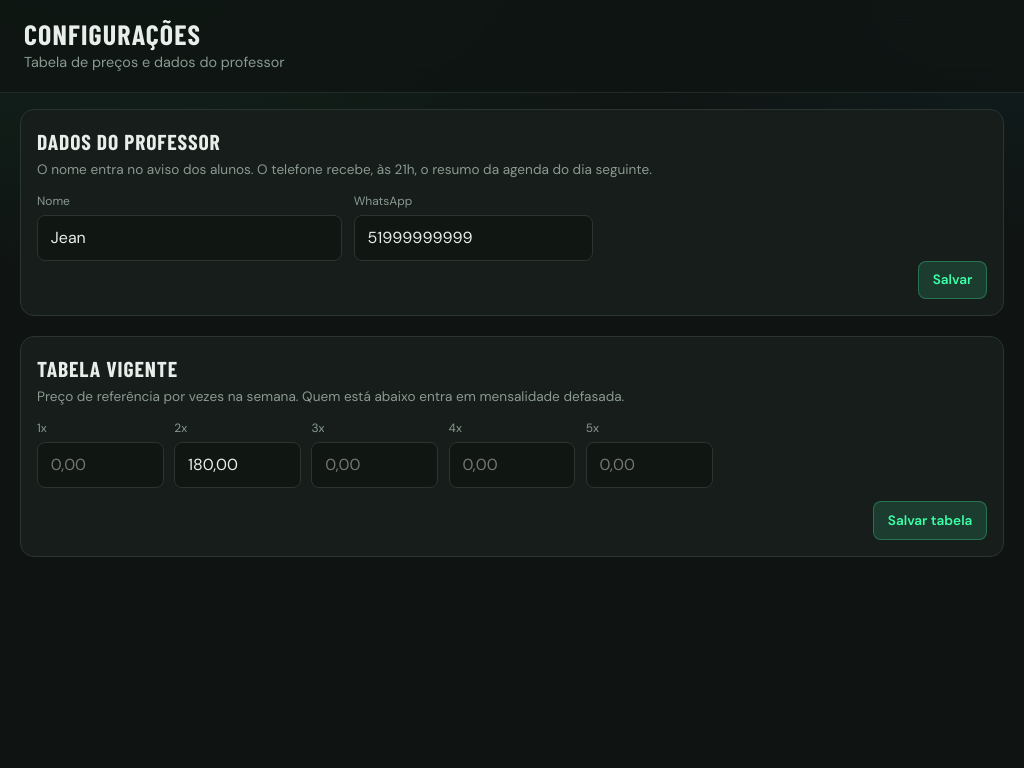
edita e salva a tabela vigente
Replace the text in the field named "Preço 2x na semana" with "200,00" at (238, 465), box [174, 442, 301, 488]
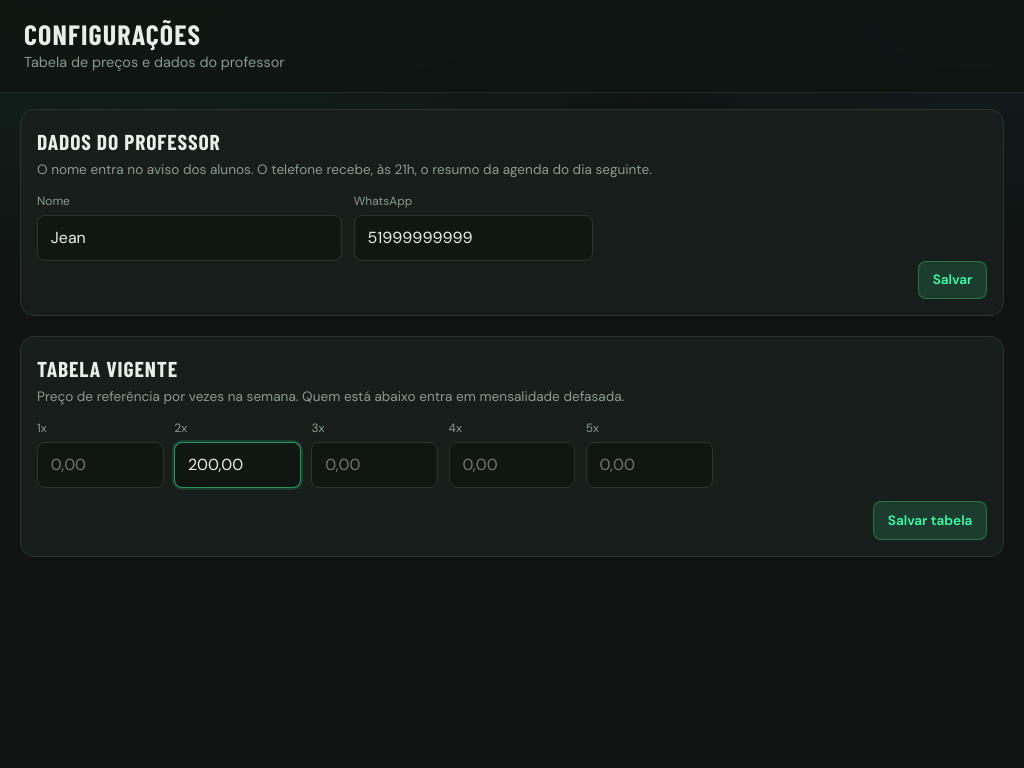
Click the button "Salvar tabela".
click(930, 520)  # box [873, 501, 987, 540]
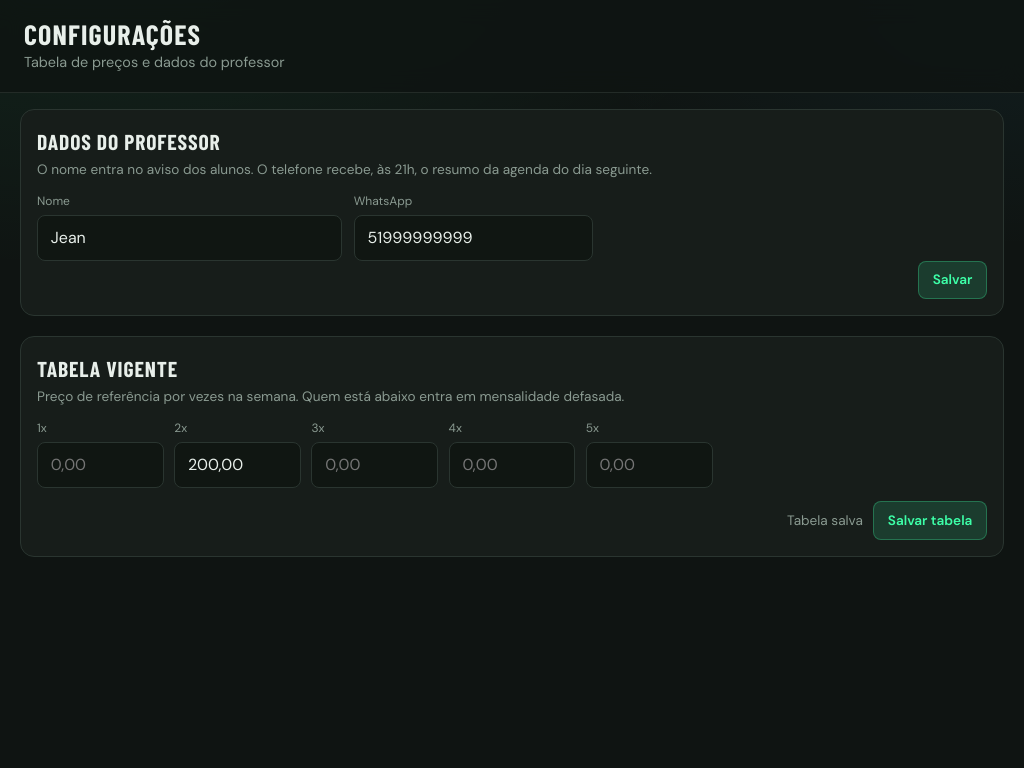
Expected: the text "Tabela salva" is shown, [787, 511, 863, 530]
Replace the text in the field labelled "Nome" with "Jean Silva" at (189, 238), box [37, 215, 342, 261]
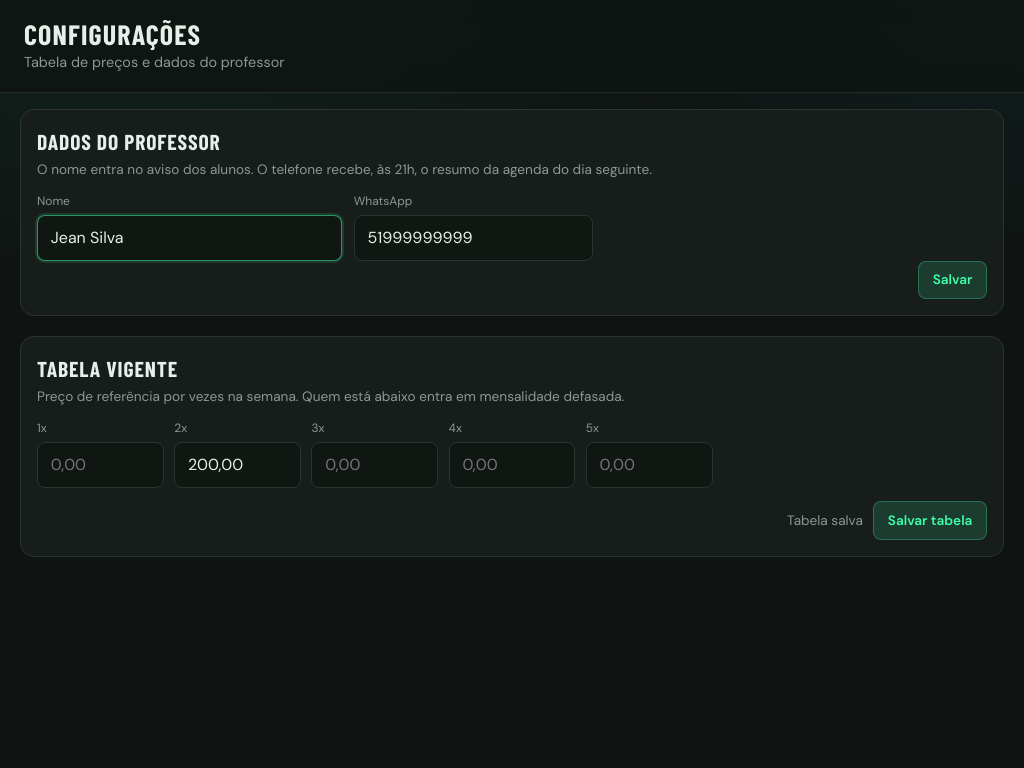
Click the button "Salvar".
click(953, 280)  # box [918, 261, 987, 299]
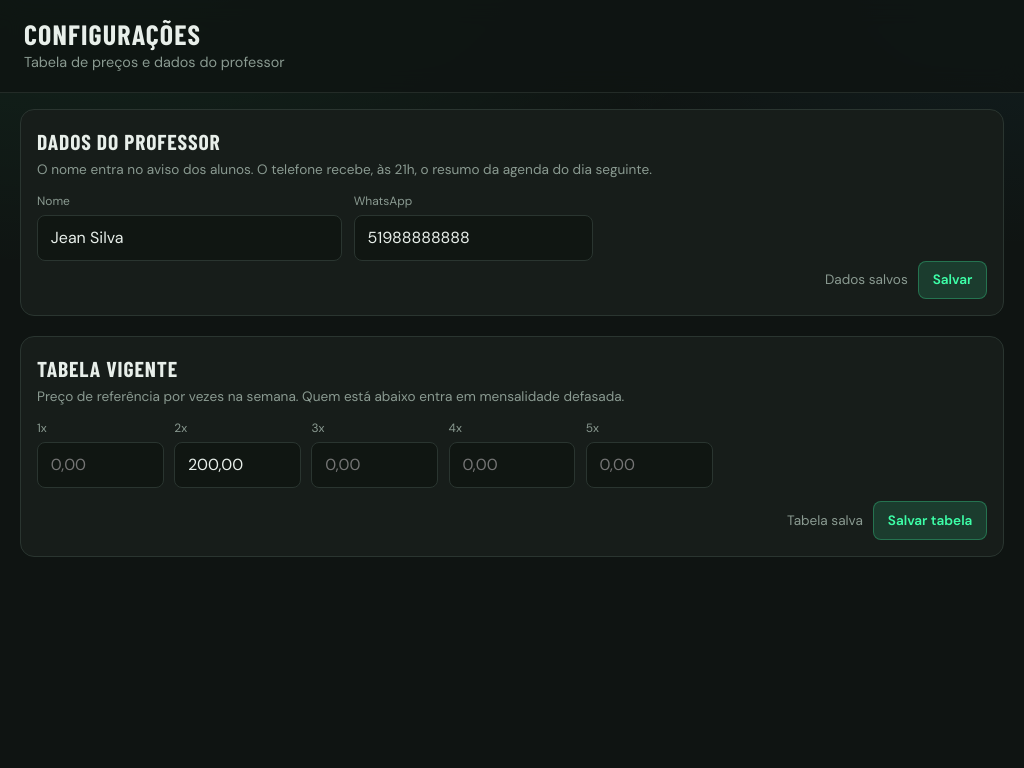
Expected: the text "Dados salvos" is shown, [825, 270, 908, 289]
